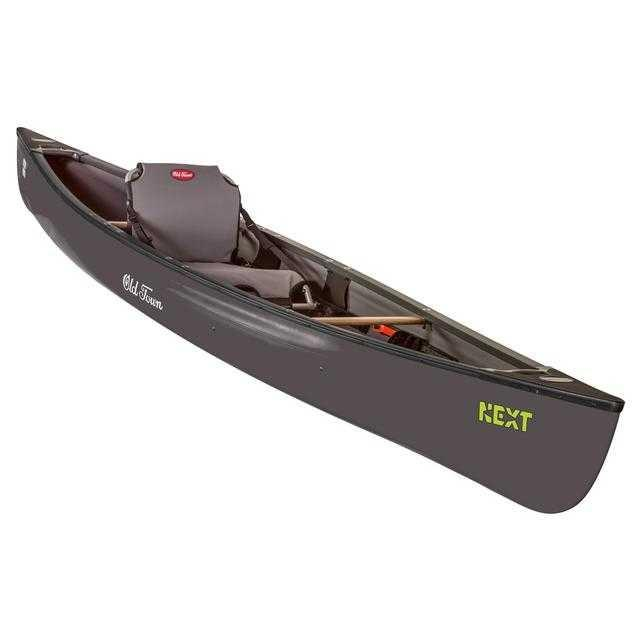kayak: (13, 139, 624, 521)
